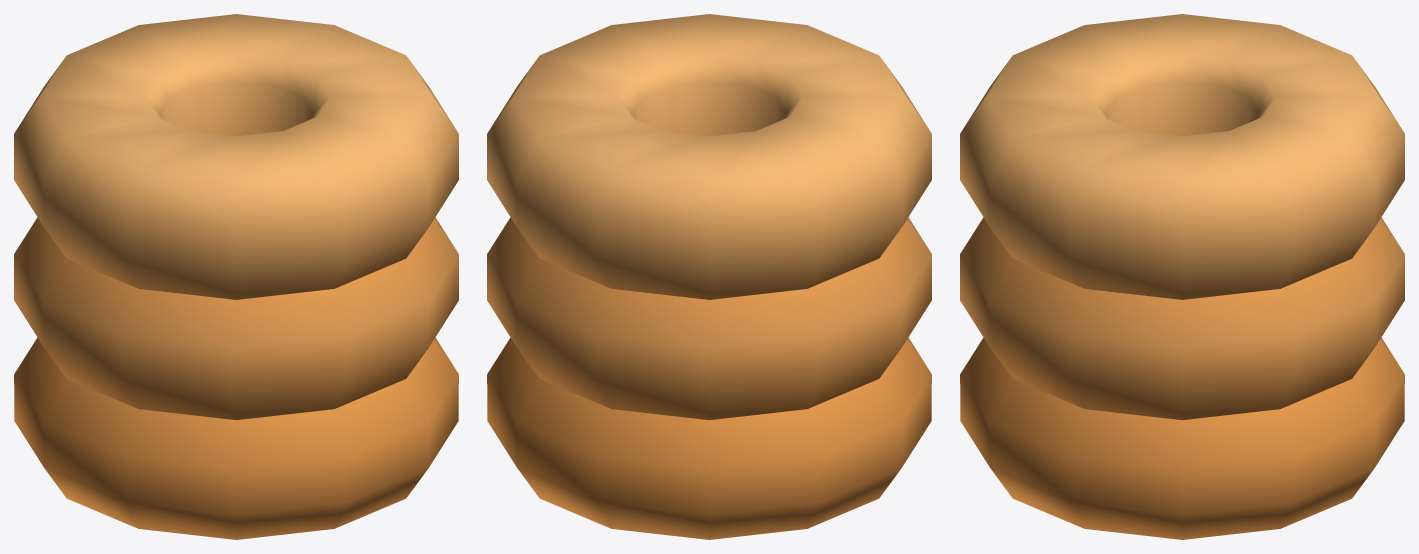
The model's file is m_Baumkuchen03.fbx.
3 renders of one model, left to right at view 1: azimuth 30°, elevation 25°; view 2: azimuth 150°, elevation 25°; view 3: azimuth 270°, elevation 25°, orthographic.
Parts seen in each view (by area): view 1: m_Baumkuchen03; view 2: m_Baumkuchen03; view 3: m_Baumkuchen03.
Part boxes in pixels (x1,y1,x2,y2): m_Baumkuchen03: (14,14,458,539); m_Baumkuchen03: (487,14,931,539); m_Baumkuchen03: (960,14,1404,539).
Size of the model in its own units: 17.12 by 15.31 by 17.12.
